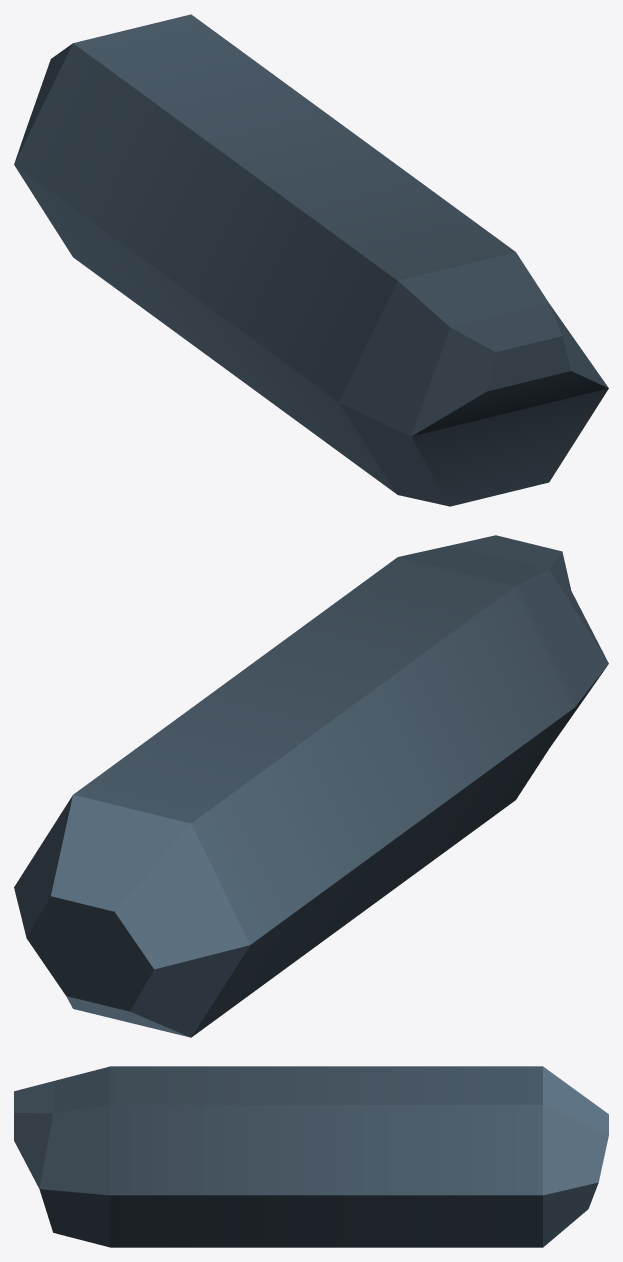
Rendered from CalciteCrystal.006.glb.
3 renders of one model, top to bottom at view 1: azimuth 30°, elevation 25°; view 2: azimuth 150°, elevation 25°; view 3: azimuth 270°, elevation 25°, orthographic. The views are drawn at different scales.
Parts seen in each view (by area): view 1: CalciteCrystal.006; view 2: CalciteCrystal.006; view 3: CalciteCrystal.006.
Boxes of the visible parts, x1,y1,x2,y2 form: CalciteCrystal.006: [14, 14, 608, 506]; CalciteCrystal.006: [14, 535, 608, 1037]; CalciteCrystal.006: [14, 1066, 608, 1247].
Bounding box in the file's own units: 136 × 118 × 446.
